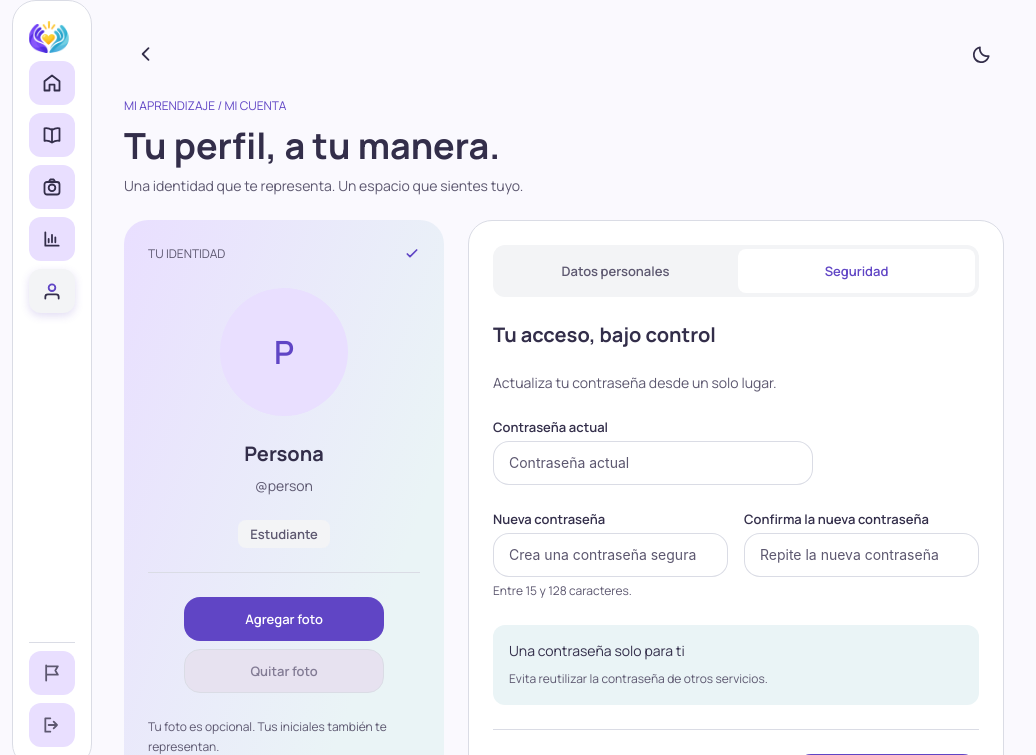
Test: contraseña: confirma coincidencia, conserva borrador tras error y solo anuncia éxito del servidor
The width and height of the screenshot is (1036, 755).
Type "Una frase anterior 2026!" into the password field labelled "Contraseña actual" at coordinates (653, 464), box [509,454,797,474]
Type "Una frase diferente 2026!" into the password field labelled "Nueva contraseña" at coordinates (610, 556), box [509,546,712,566]
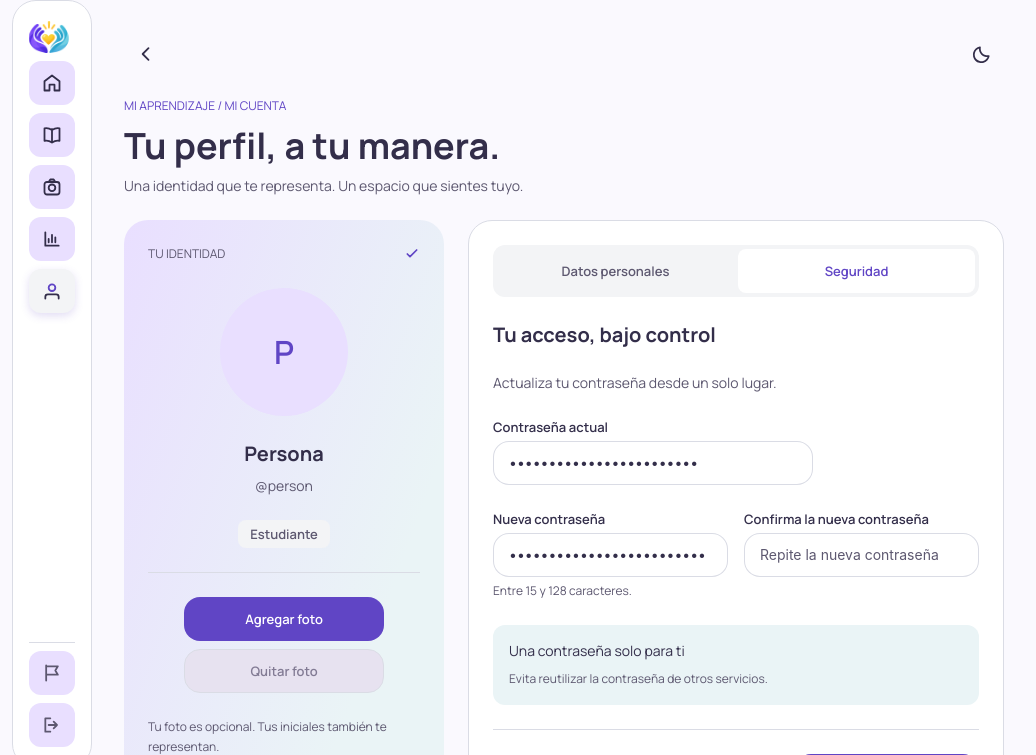
Type "no coincide" into the password field labelled "Confirma la nueva contraseña" at coordinates (862, 556), box [760,546,963,566]
(page scrolled)
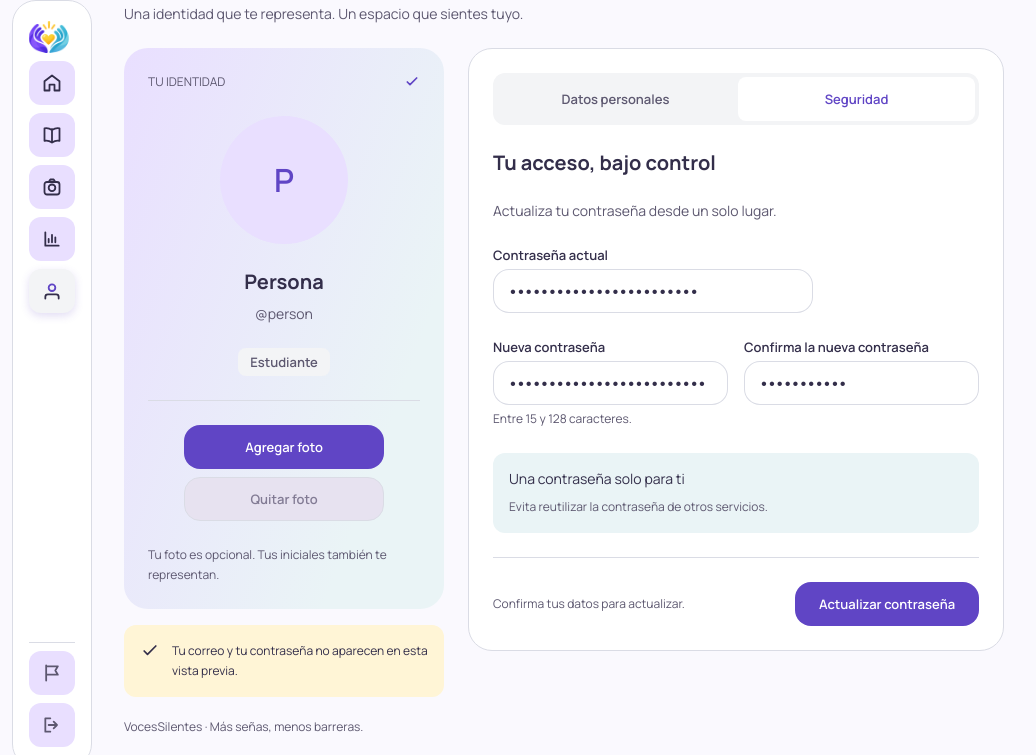
Click the button "Actualizar contraseña" at coordinates (887, 604), box [795,582,979,626]
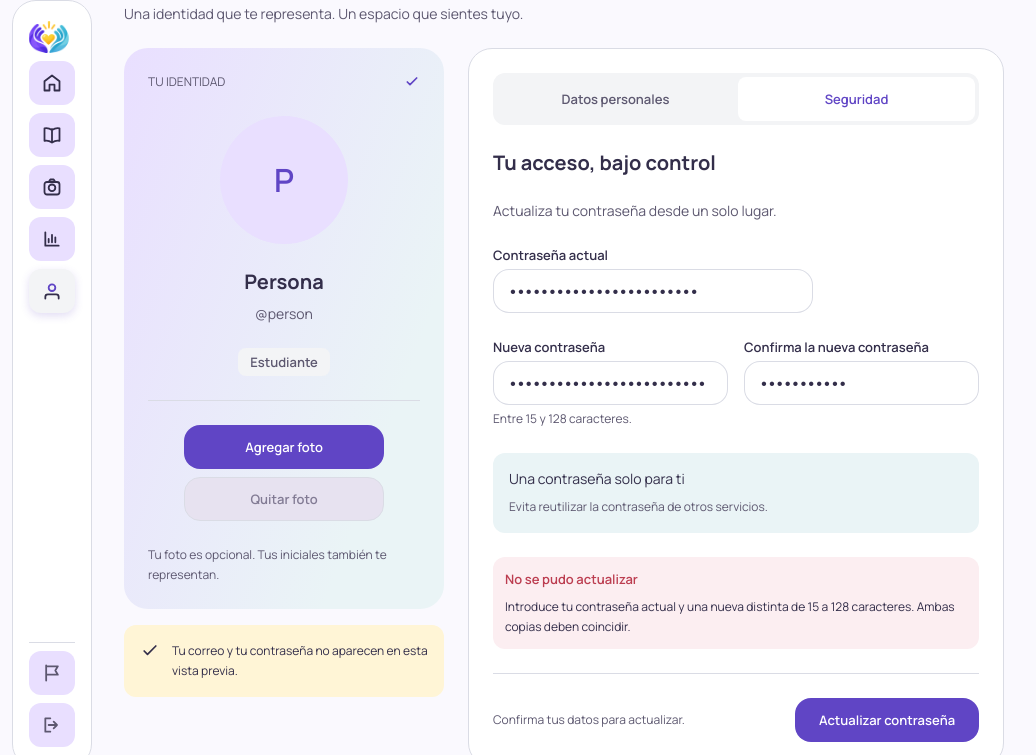
Type "Una frase diferente 2026!" into the password field labelled "Confirma la nueva contraseña" at coordinates (862, 384), box [760,374,963,394]
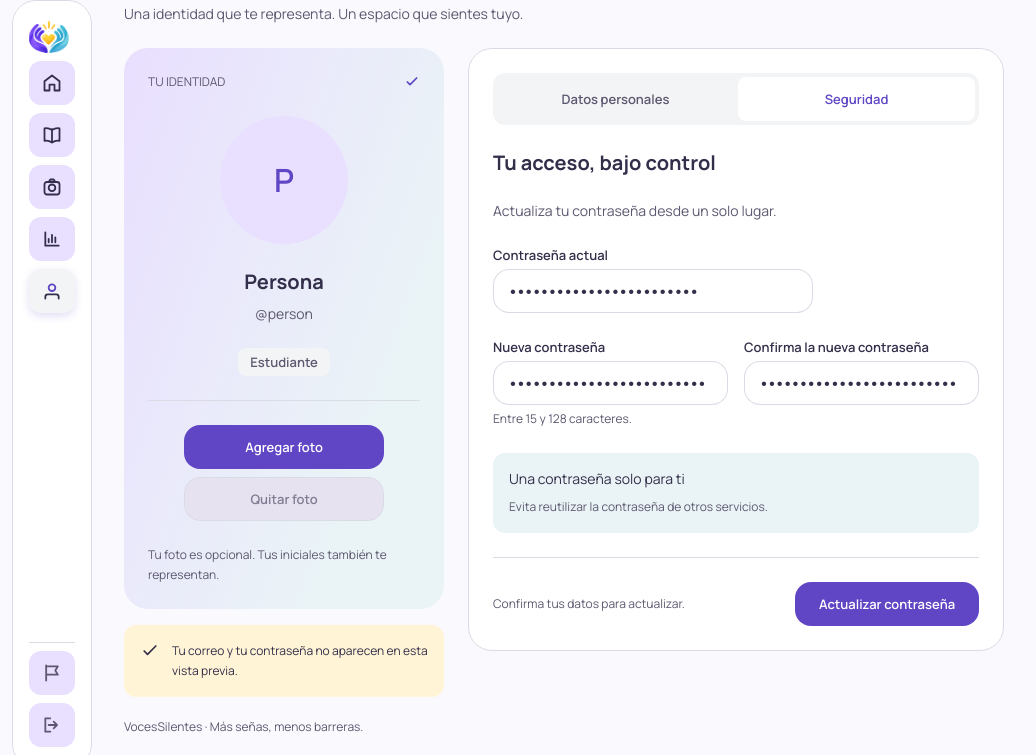
Click the button "Actualizar contraseña" at coordinates (887, 604), box [795,582,979,626]
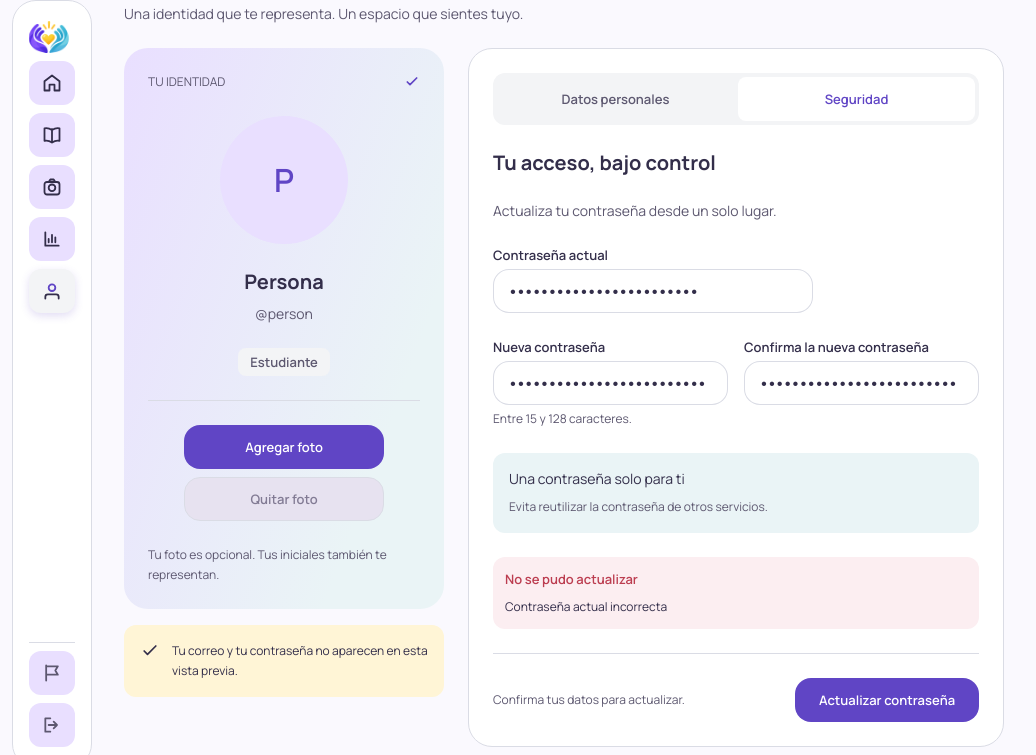
Result: the text "Contraseña actual incorrecta" is shown at [505,598,667,616]
Click the button "Actualizar contraseña" at coordinates (887, 700), box [795,678,979,722]
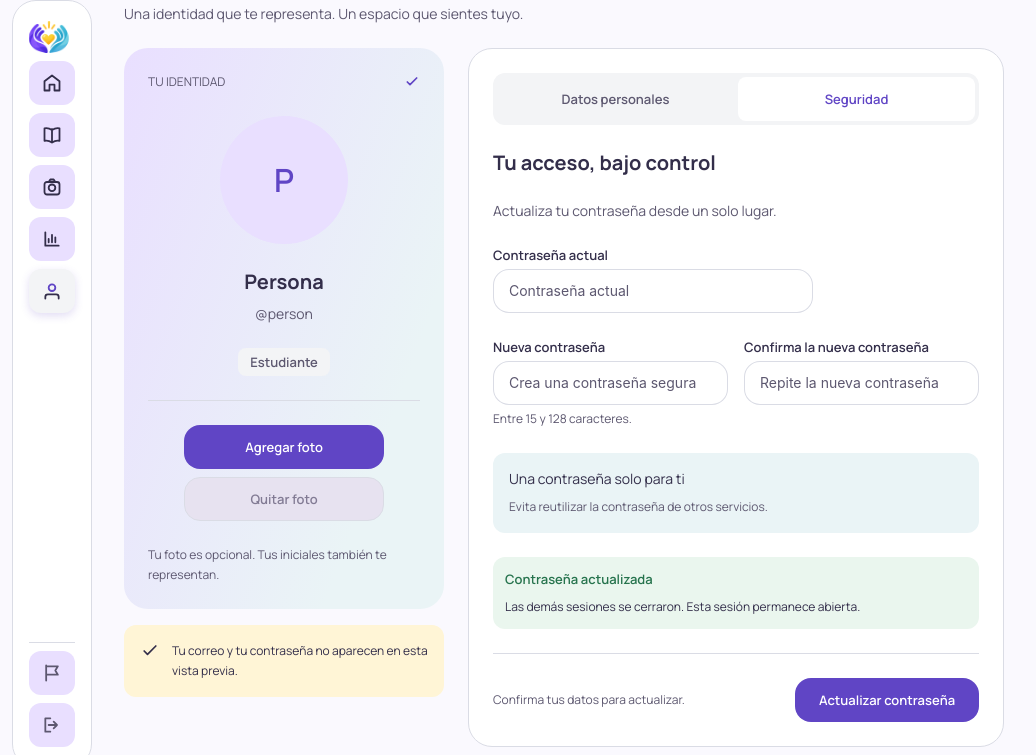
Result: the text "Contraseña actualizada" is shown at [505,570,653,590]
Result: the password field labelled "Nueva contraseña" is empty at [509,374,712,394]
